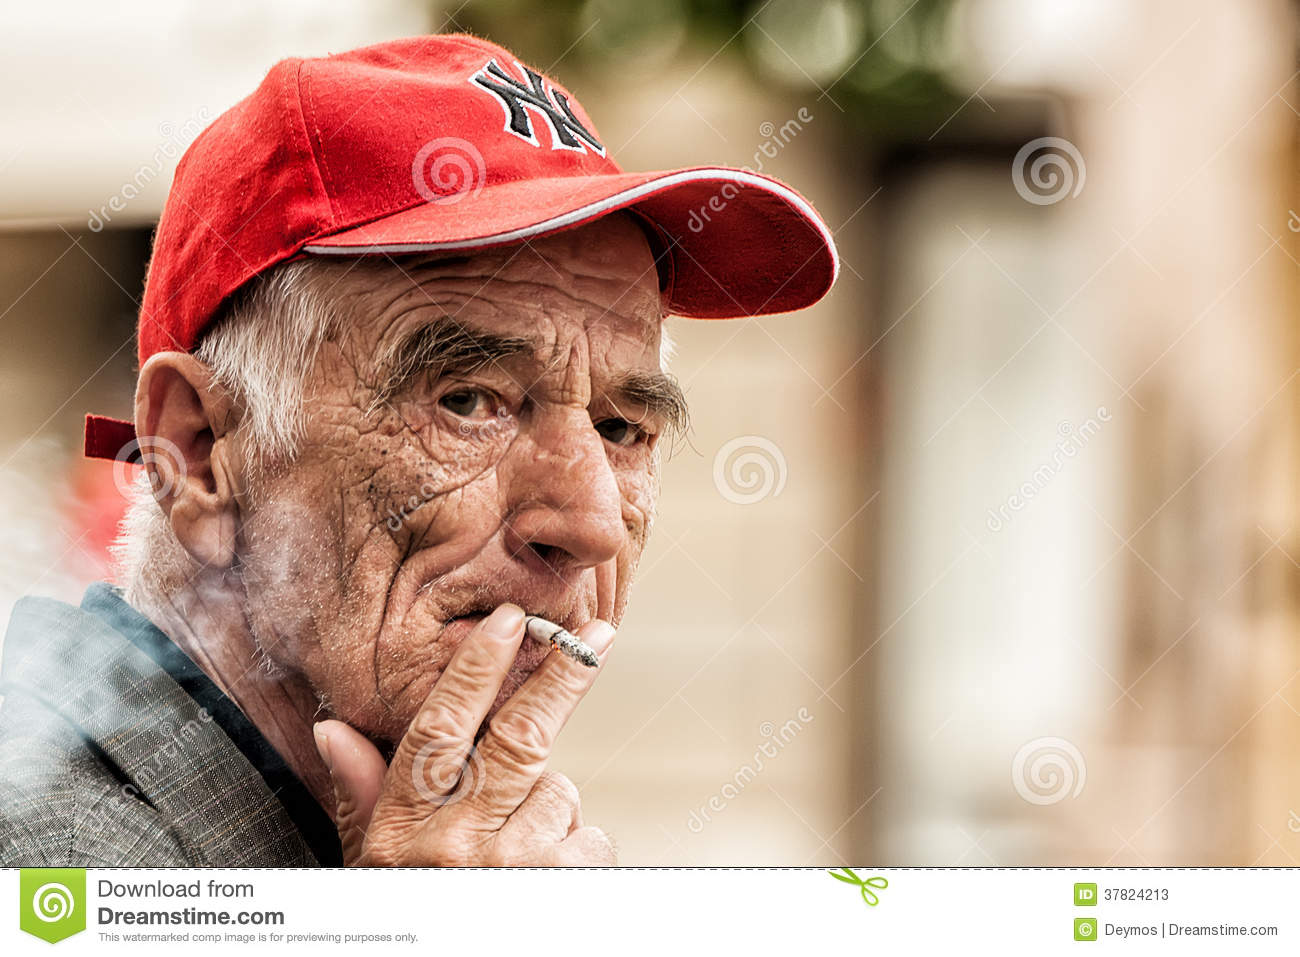cigarette: (504, 599, 605, 684)
